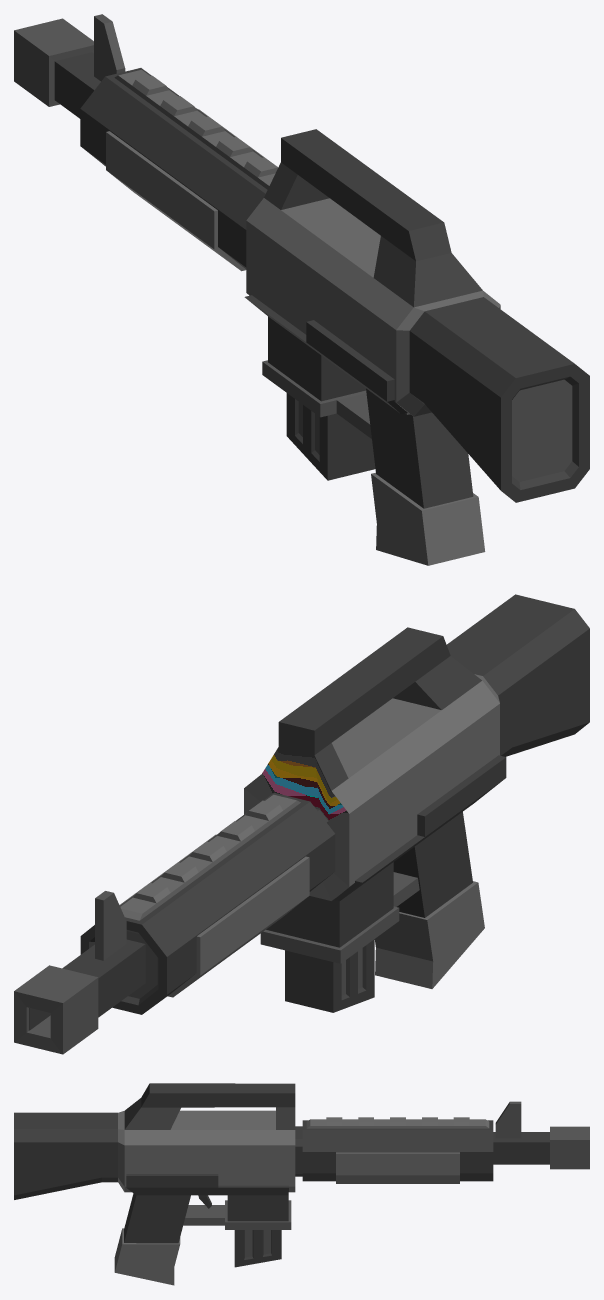
Rendered from subfusil_4.glb.
3 renders of one model, top to bottom at view 1: azimuth 30°, elevation 25°; view 2: azimuth 150°, elevation 25°; view 3: azimuth 270°, elevation 25°, orthographic. The views are drawn at different scales.
Visible parts, largest first — view 1: subfusil_4, subfusil_charguer_4; view 2: subfusil_4, subfusil_charguer_4; view 3: subfusil_4, subfusil_charguer_4.
Part boxes in pixels (left/top/right/bottom): subfusil_4: left=14, top=14, right=589, bottom=565; subfusil_charguer_4: left=286, top=393, right=375, bottom=480; subfusil_4: left=14, top=594, right=589, bottom=1054; subfusil_charguer_4: left=285, top=939, right=374, bottom=1012; subfusil_4: left=14, top=1083, right=589, bottom=1285; subfusil_charguer_4: left=234, top=1230, right=281, bottom=1267.
Size of the model in its own units: 0.3593 by 0.9554 by 2.63.
Materials: 1 (1 with a texture image).
